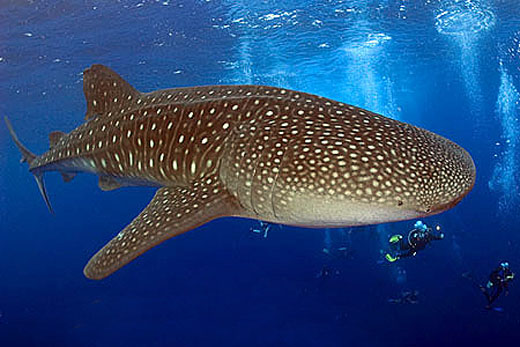Rhincodon_typusw: (18, 60, 482, 275)
